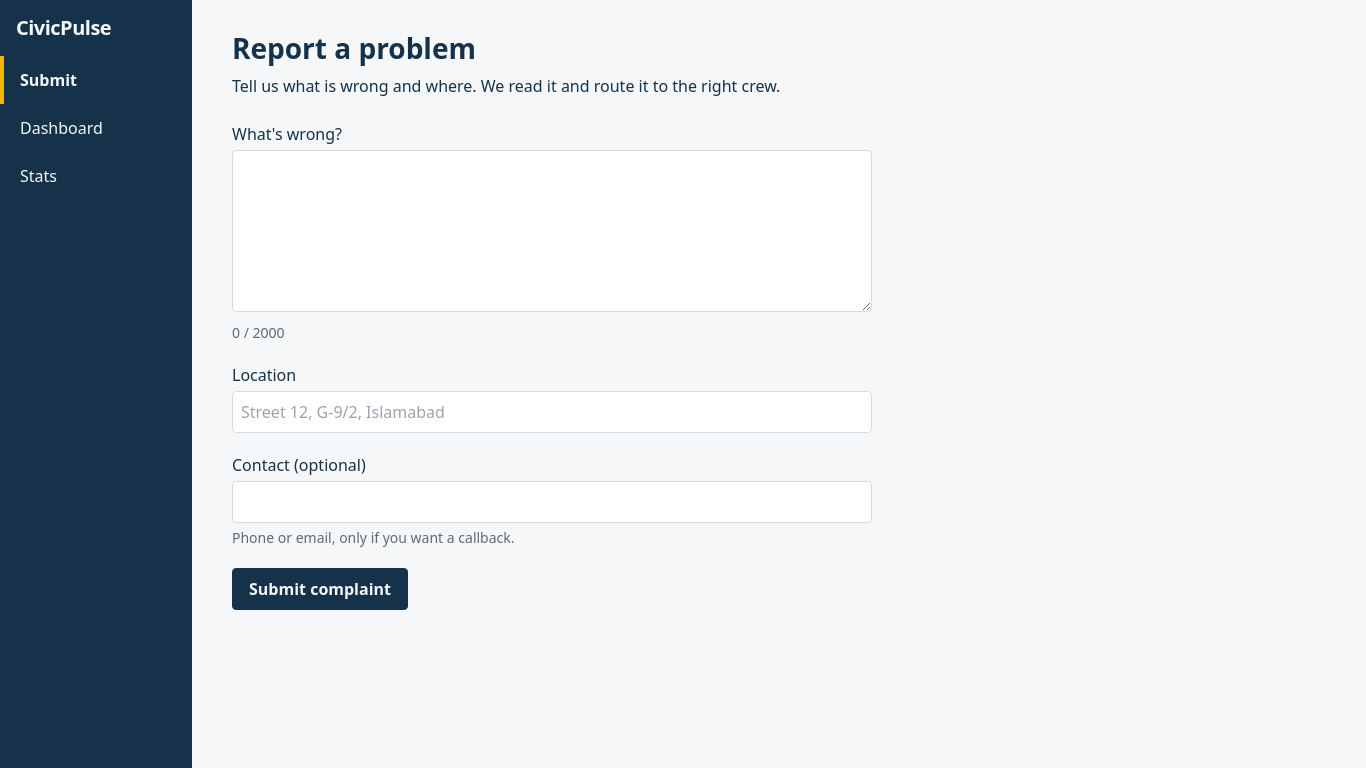
Test: nav rail marks the current page and navigates
Click the link "Stats": click(38, 176) [20,165,57,187]
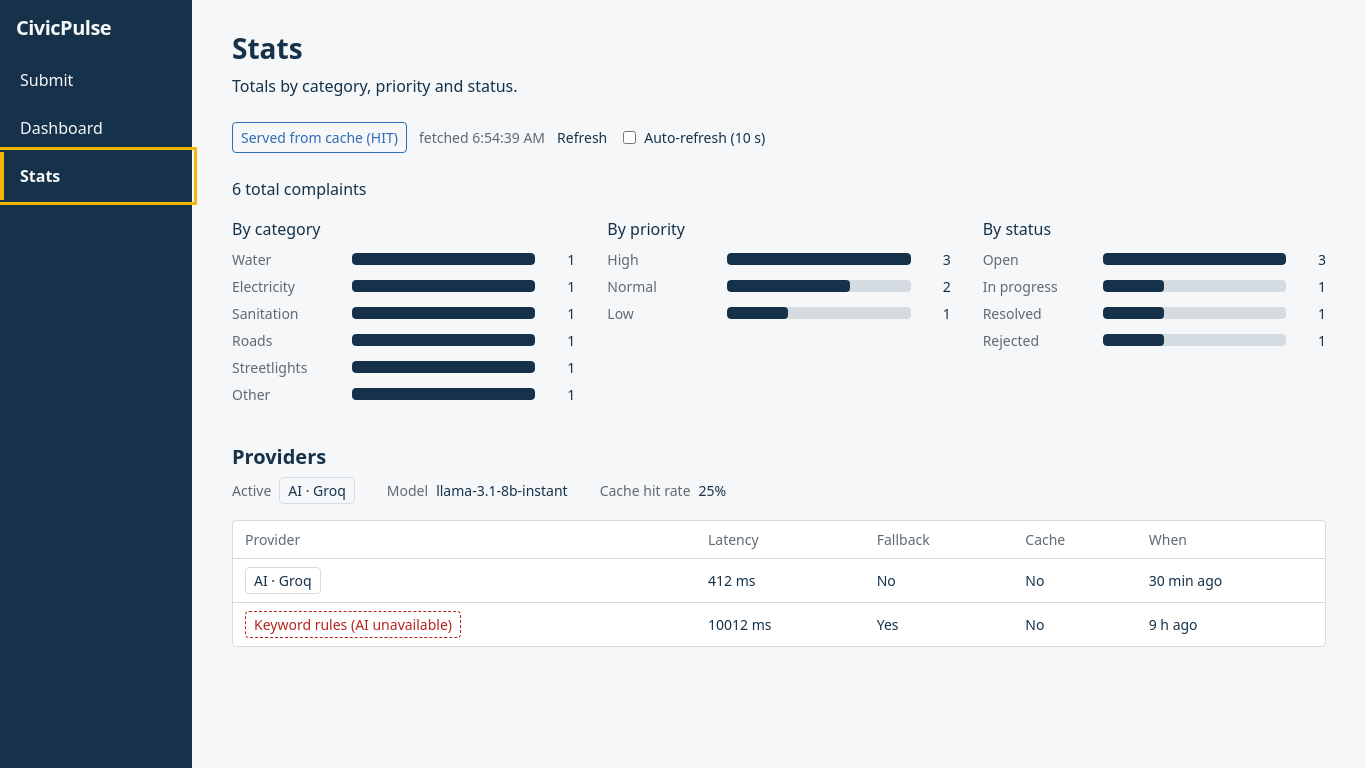
Expected: the navigation bar named "Main" is shown, [0,0,192,767]
Expected: the heading "Stats" is shown, [232,29,303,67]
